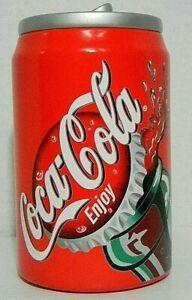metal: (13, 3, 172, 292)
